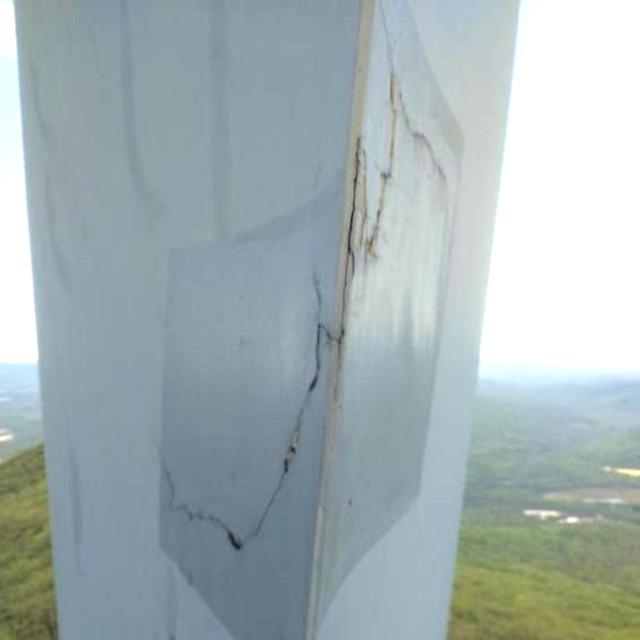crack: (158, 328, 332, 546), (340, 73, 444, 330)
